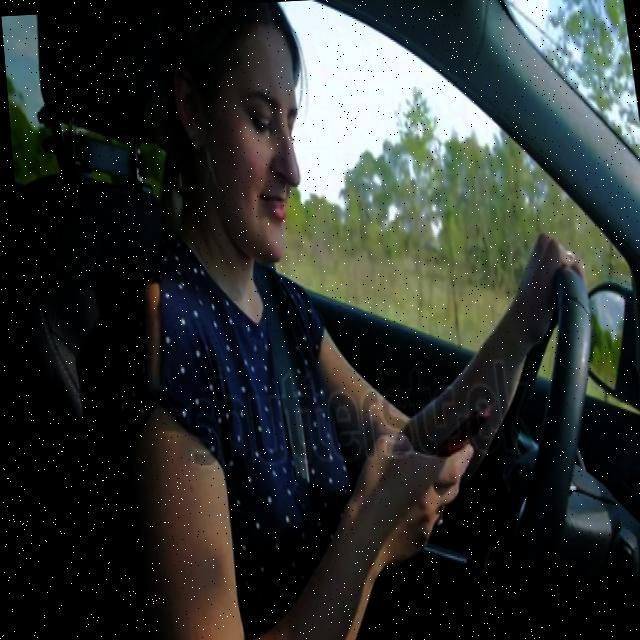PhoneCall: (406, 402, 493, 473)
